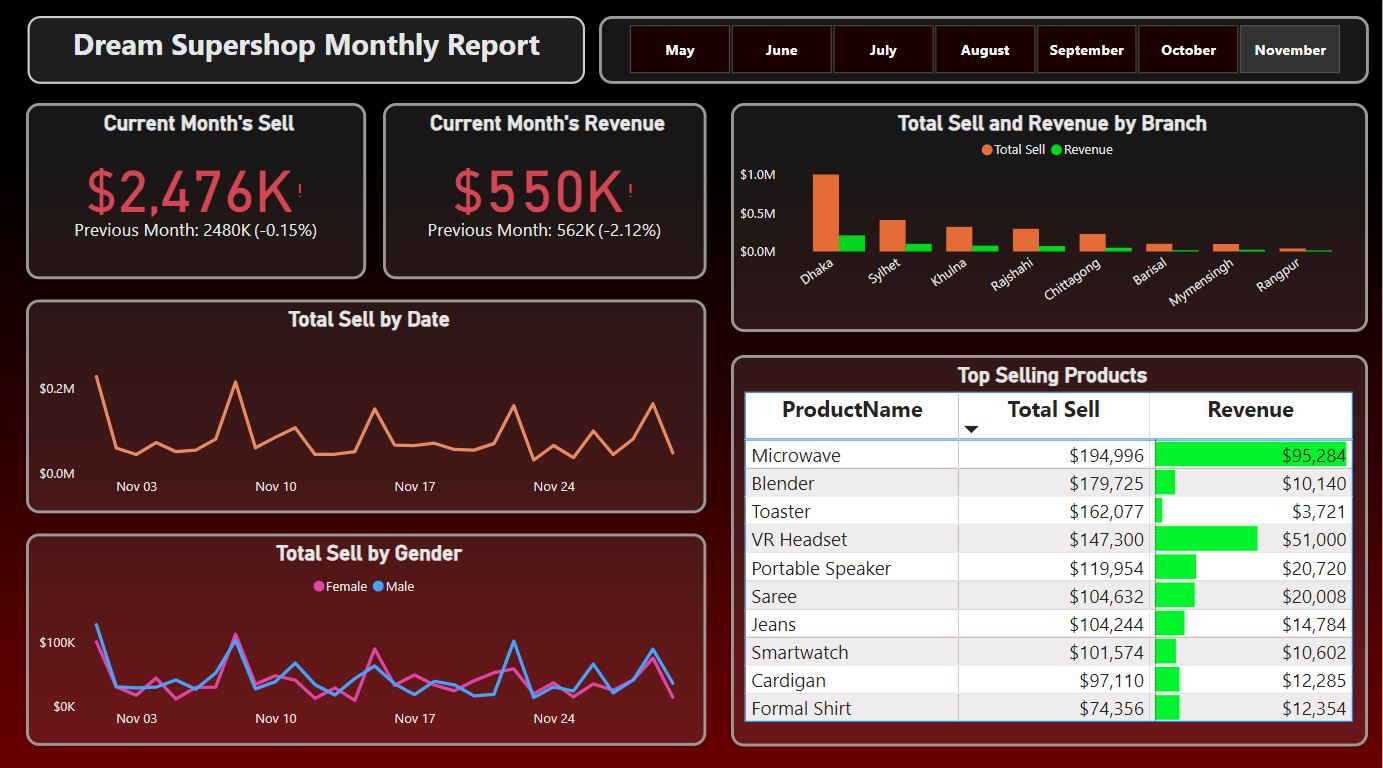

What the dashboard file says about the page in this screenshot:
{"tool":"powerbi","page":{"name":"Monthly Report","canvas":[1280,720],"ordinal":1},"visuals":[{"type":"kpi","title":"Current Month''s Sell","fields":{"Indicator":["_Measure.Total Sell"],"TrendLine":["Date_lookup.Start of Month"],"Goal":["_Measure.PM Sales"]},"box":[27.6,96.5,314,162.4],"z":0},{"type":"kpi","title":"Current Month''s Revenue","fields":{"TrendLine":["Date_lookup.Start of Month"],"Indicator":["_Measure.Revenue"],"Goal":["_Measure.PM Revenue"]},"box":[356.9,96.5,298.7,162.4],"z":1000},{"type":"lineChart","fields":{"Category":["Date_lookup.Date"],"Y":["_Measure.Total Sell"]},"box":[27.6,278.8,628.1,197.6],"z":2000},{"type":"slicer","title":"Month Name","fields":{"Values":["Date_lookup.Month Name"]},"box":[556.1,16.9,710.8,62.8],"z":3000},{"type":"textbox","box":[29.1,16.9,514.7,62.8],"z":4000},{"type":"tableEx","title":"Top Selling Products","fields":{"Values":["Product Lookup.ProductName","_Measure.Total Sell","_Measure.Revenue"]},"box":[678.6,329.4,588.3,361.5],"z":5000},{"type":"lineChart","title":"Total Sell by Gender","fields":{"Category":["Date_lookup.Date"],"Y":["_Measure.Total Sell"],"Series":["Customer Lookup.Gender"]},"box":[27.6,494.8,628.1,196.1],"z":5001},{"type":"clusteredColumnChart","fields":{"Category":["Customer Lookup.Branch"],"Y":["_Measure.Total Sell","_Measure.Revenue"]},"box":[678.6,96.5,588.3,211.4],"z":5002}]}

Visuals, with their boxes in screenshot pixels (x1, y1, x2, y2), scaled from the page's 1280x720 canvas onto the 1383x768 screenshot:
"Current Month''s Sell" kpi: [x1=30, y1=103, x2=369, y2=276]
"Current Month''s Revenue" kpi: [x1=386, y1=103, x2=708, y2=276]
lineChart - Date_lookup.Date x _Measure.Total Sell: [x1=30, y1=297, x2=708, y2=508]
"Month Name" slicer: [x1=601, y1=18, x2=1369, y2=85]
textbox: [x1=31, y1=18, x2=588, y2=85]
"Top Selling Products" tableEx: [x1=733, y1=351, x2=1369, y2=737]
"Total Sell by Gender" lineChart: [x1=30, y1=528, x2=708, y2=737]
clusteredColumnChart - Customer Lookup.Branch x _Measure.Total Sell: [x1=733, y1=103, x2=1369, y2=328]
